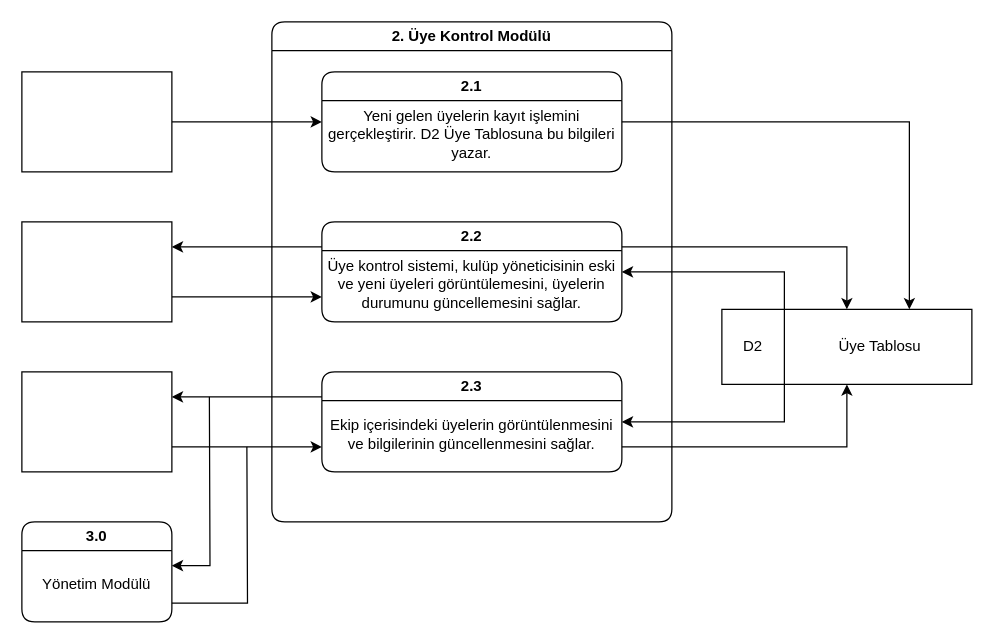
Some shapes in this 994 by 644 pixel diagram are drawn without their labels. Here are the shapes that lost their labels. From the top down, the centre of each, then its label:
At (96,121): "Üye".
At (96,271): "Kulüp Yöneticisi".
At (96,421): "Ekip Lideri".
